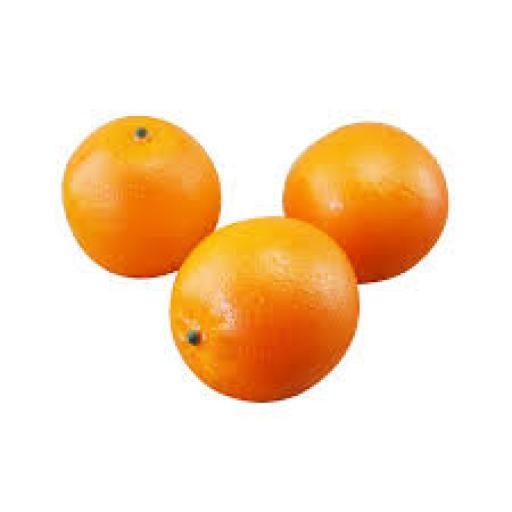orange: (171, 219, 359, 400), (285, 123, 448, 282), (64, 117, 220, 277)
